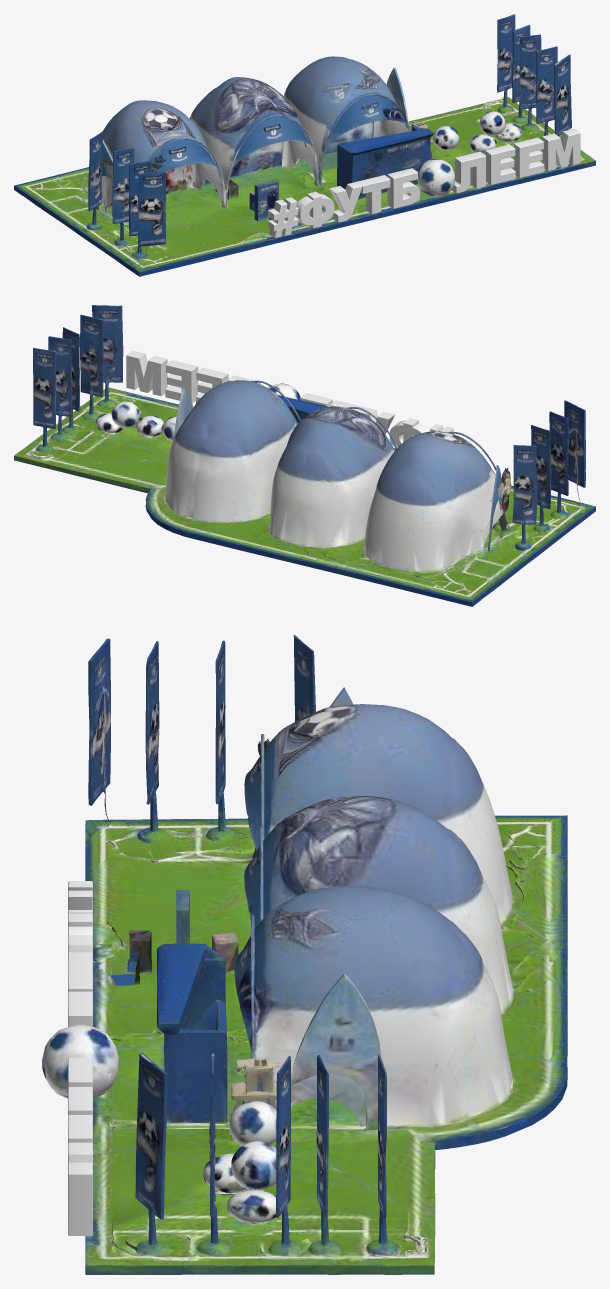
Rendered from baltika7.glb.
3 renders of one model, top to bottom at view 1: azimuth 30°, elevation 25°; view 2: azimuth 150°, elevation 25°; view 3: azimuth 270°, elevation 25°, orthographic. The views are drawn at different scales.
Visible parts, largest first — view 1: Mesh_0; view 2: Mesh_0; view 3: Mesh_0.
Boxes of the visible parts, x1,y1,x2,y2 form: Mesh_0: [14, 14, 595, 276]; Mesh_0: [14, 305, 595, 606]; Mesh_0: [42, 635, 567, 1274].
Bounding box in the file's own units: 19.94 × 4.09 × 9.83.
2 materials, 1 textured.
